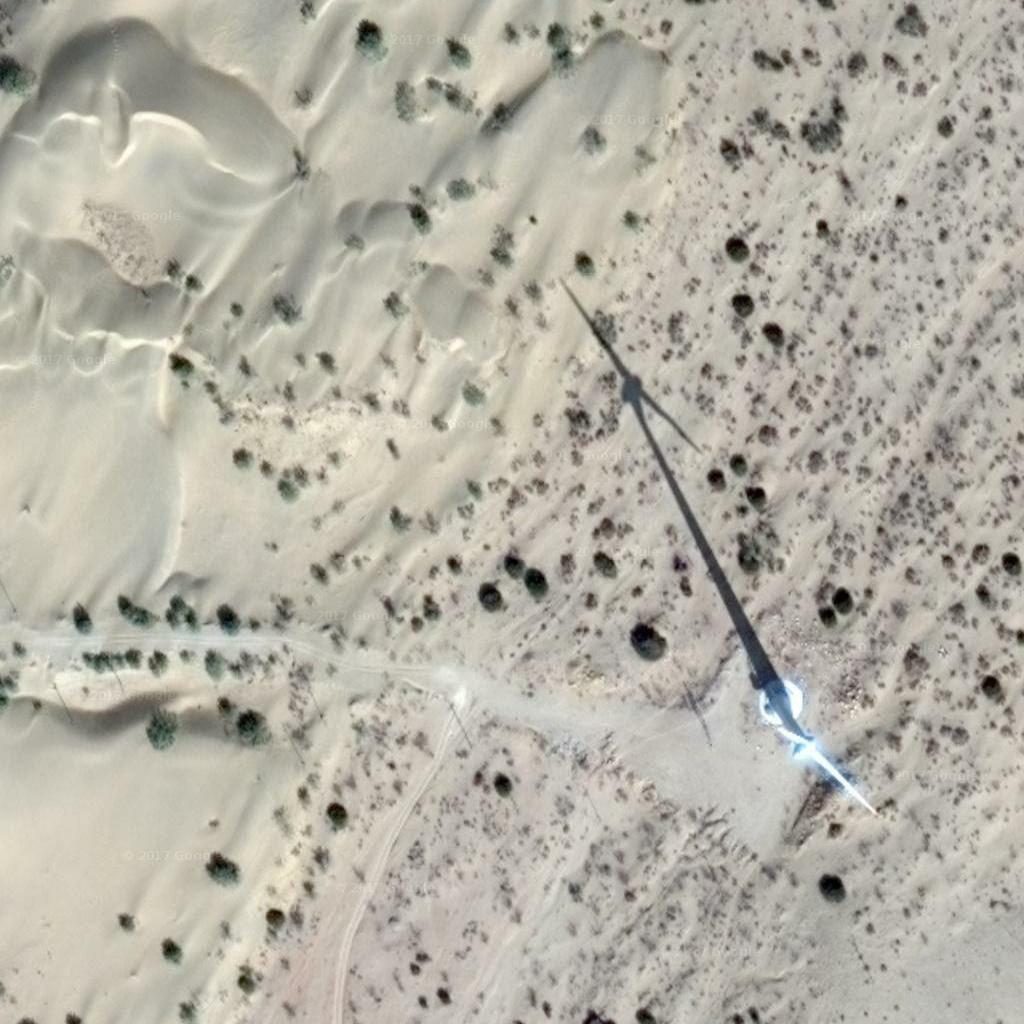Windmill: (557, 275, 787, 691)
